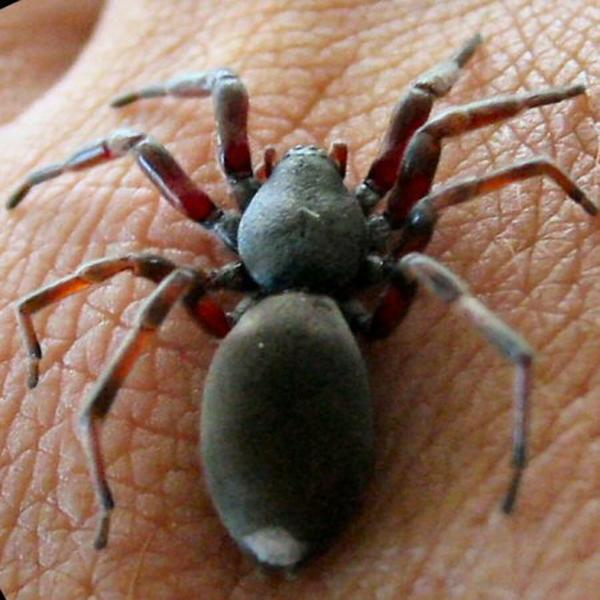White-Tailed_Spider: (11, 44, 594, 564)
